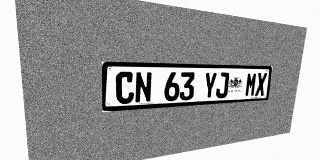3: (179, 72, 195, 101)
6: (164, 72, 180, 101)
C: (116, 71, 134, 104)
J: (215, 72, 229, 98)
M: (244, 72, 257, 97)
N: (134, 72, 152, 103)
X: (255, 73, 267, 96)
Y: (202, 72, 217, 99)
